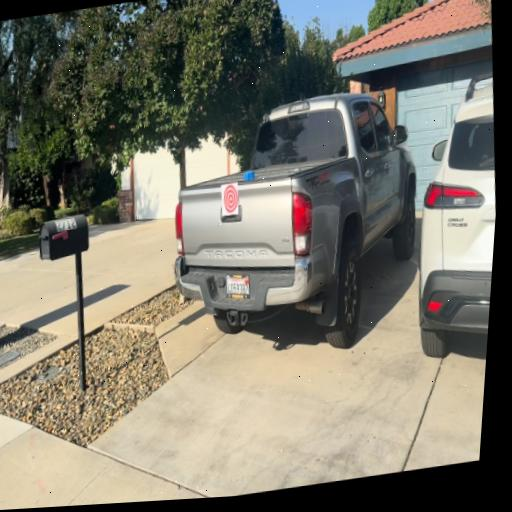bullseye: (222, 181, 238, 216)
